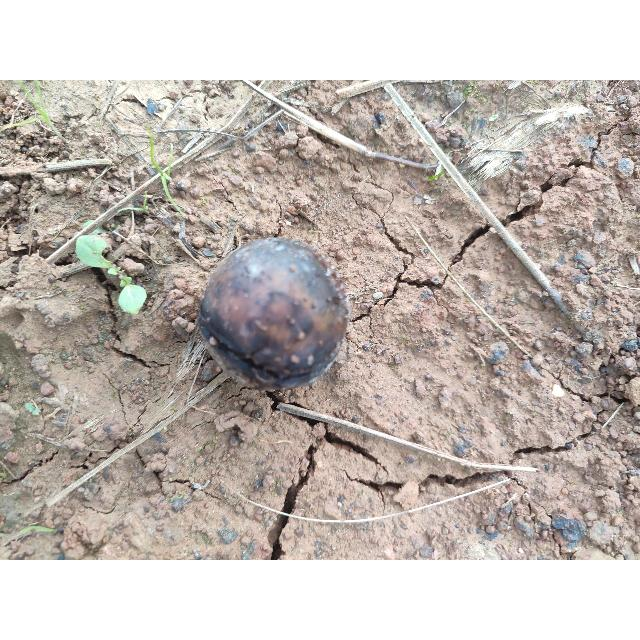damaged: (197, 239, 350, 394)
